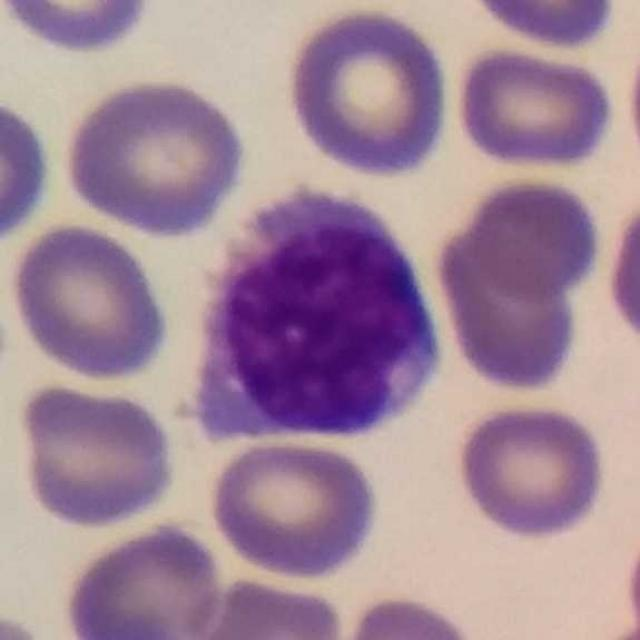Lymphocyte: (174, 173, 460, 462)
RBC: (58, 74, 253, 240), (281, 2, 455, 182), (431, 212, 586, 398), (4, 218, 175, 384), (205, 435, 383, 582), (11, 378, 180, 532), (452, 399, 610, 543), (451, 44, 619, 174), (59, 517, 226, 640), (458, 174, 606, 302), (187, 574, 349, 640), (0, 0, 163, 58), (0, 91, 58, 253), (452, 0, 623, 53), (335, 591, 485, 640), (601, 188, 640, 356)
